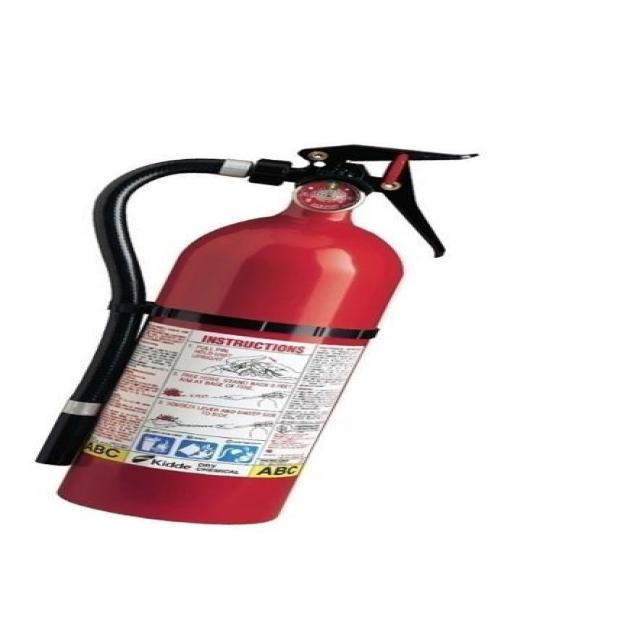fire_extinguisher: (0, 139, 492, 529)
